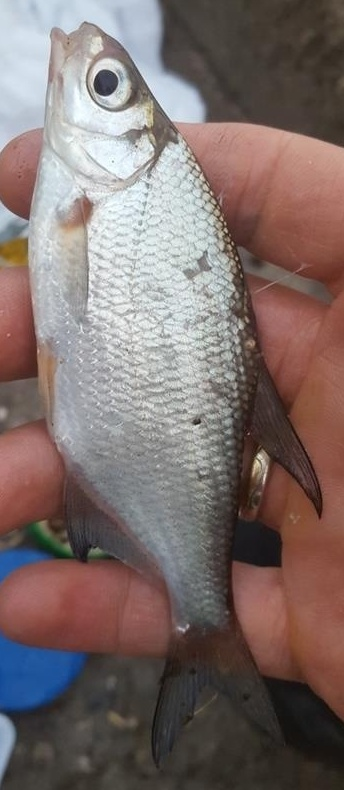Blicca bjoerkna: (20, 20, 324, 770)
